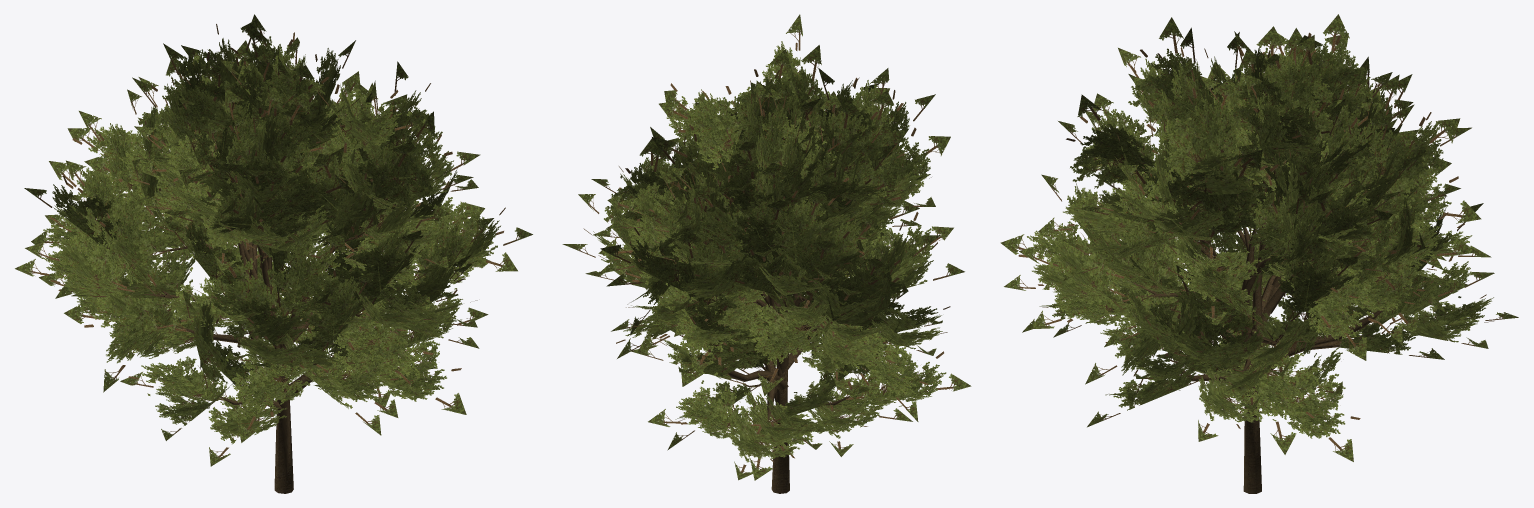
Rendered from oak.glb.
3 renders of one model, left to right at view 1: azimuth 30°, elevation 25°; view 2: azimuth 150°, elevation 25°; view 3: azimuth 270°, elevation 25°, orthographic. The views are drawn at different scales.
Visible parts, largest first — view 1: oak; view 2: oak; view 3: oak.
Part boxes in pixels (x1,y1,x2,y2): oak: (15,14,532,493); oak: (562,14,971,493); oak: (1000,14,1518,493).
Bounding box in the file's own units: 13.86 × 14 × 14.28.
2 materials, 2 textured.
